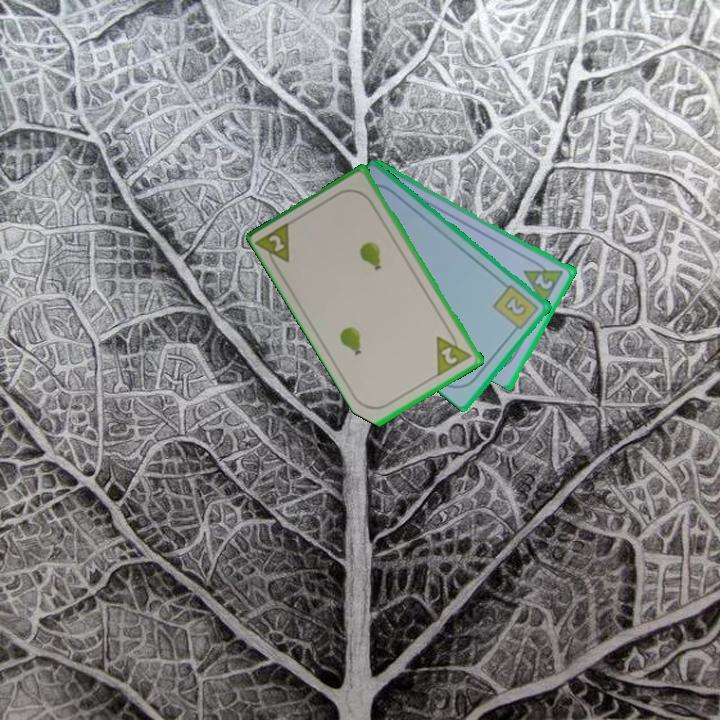2b: (490, 281, 542, 336)
2p: (254, 218, 295, 273), (432, 326, 475, 378), (531, 270, 556, 292)
